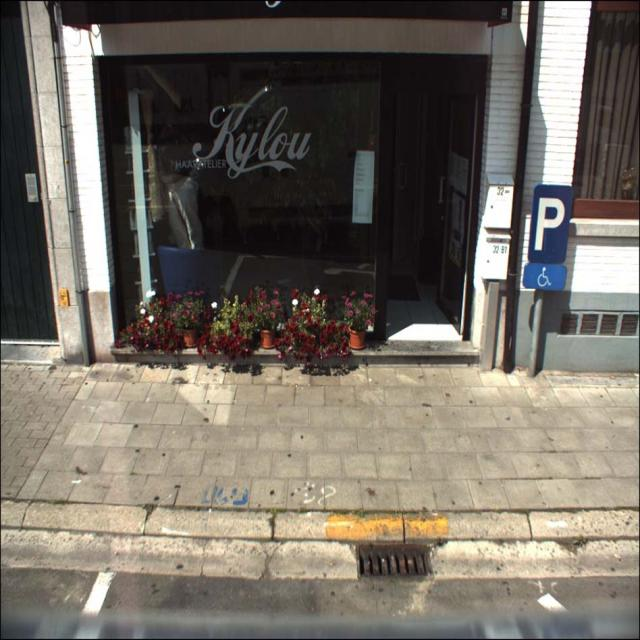park: (530, 185, 568, 263)
